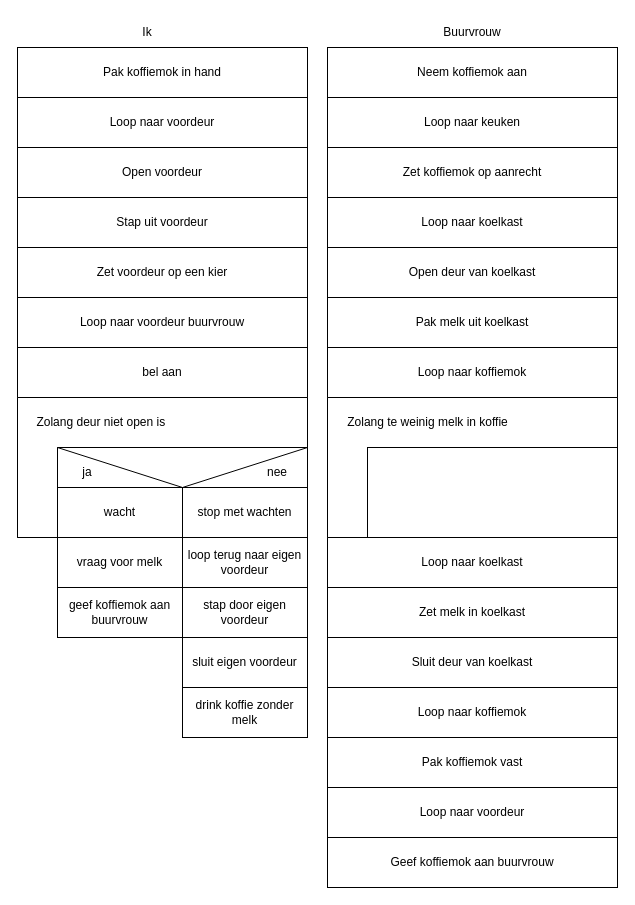
The diagram is 635 pixels wide and 905 high, and some of its shapes have lost their labels. Each missing label, with the centre of its shape:
Schud melk in koffie: pixel 492 492
wachttijd < 1 minuut: pixel 182 467
